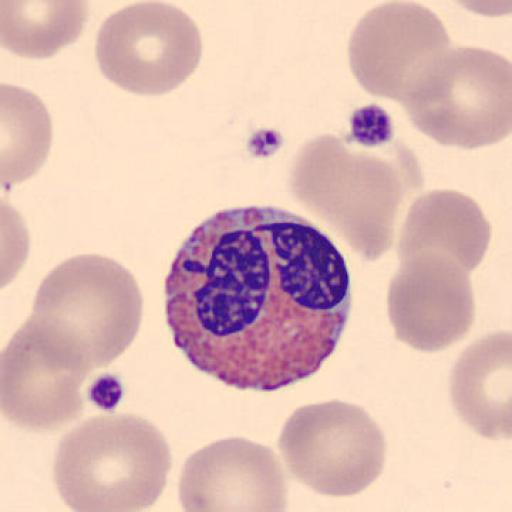Platelet: (343, 100, 397, 151)
RBC: (287, 129, 410, 262), (29, 251, 145, 371), (51, 412, 174, 512), (404, 43, 512, 150), (345, 0, 454, 106), (276, 397, 387, 499), (94, 0, 205, 99), (1, 314, 91, 432), (386, 250, 476, 354), (396, 187, 493, 280), (177, 434, 289, 511), (448, 329, 512, 441), (1, 82, 54, 186), (1, 0, 90, 61), (2, 197, 32, 291), (446, 0, 512, 19)
WBC: (163, 202, 353, 392)
